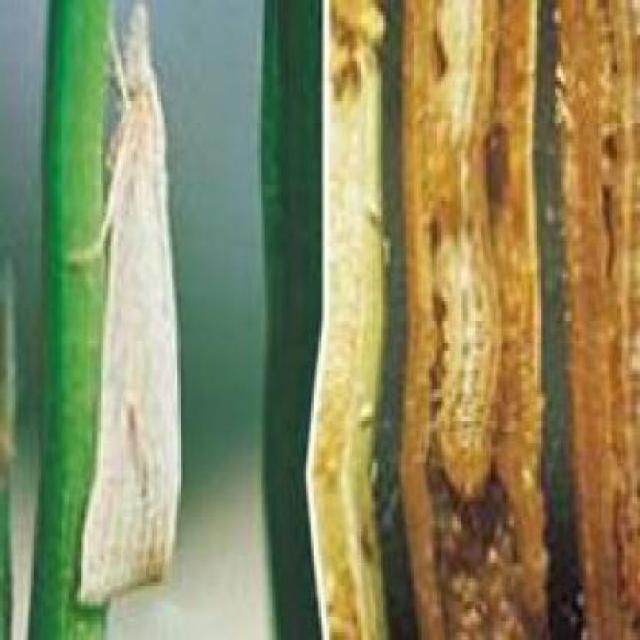stem-borer: (60, 0, 183, 612)
